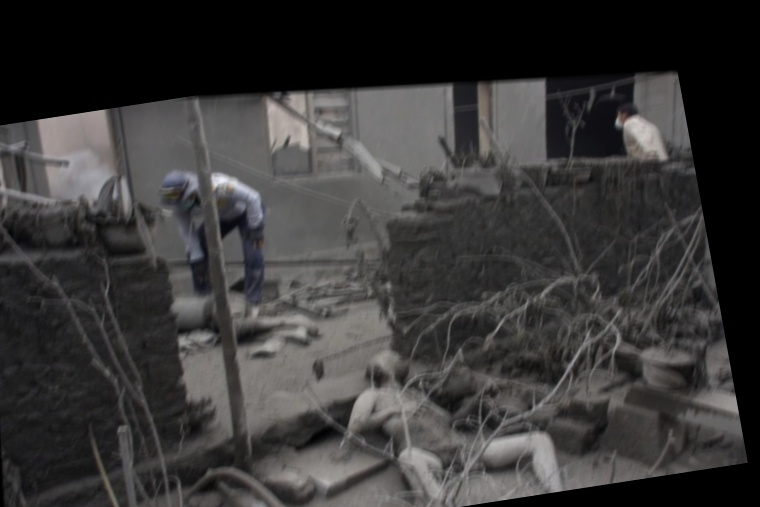BukanKorban: (138, 156, 288, 331), (606, 96, 678, 170)
Korban: (320, 319, 598, 507), (162, 271, 330, 368)
